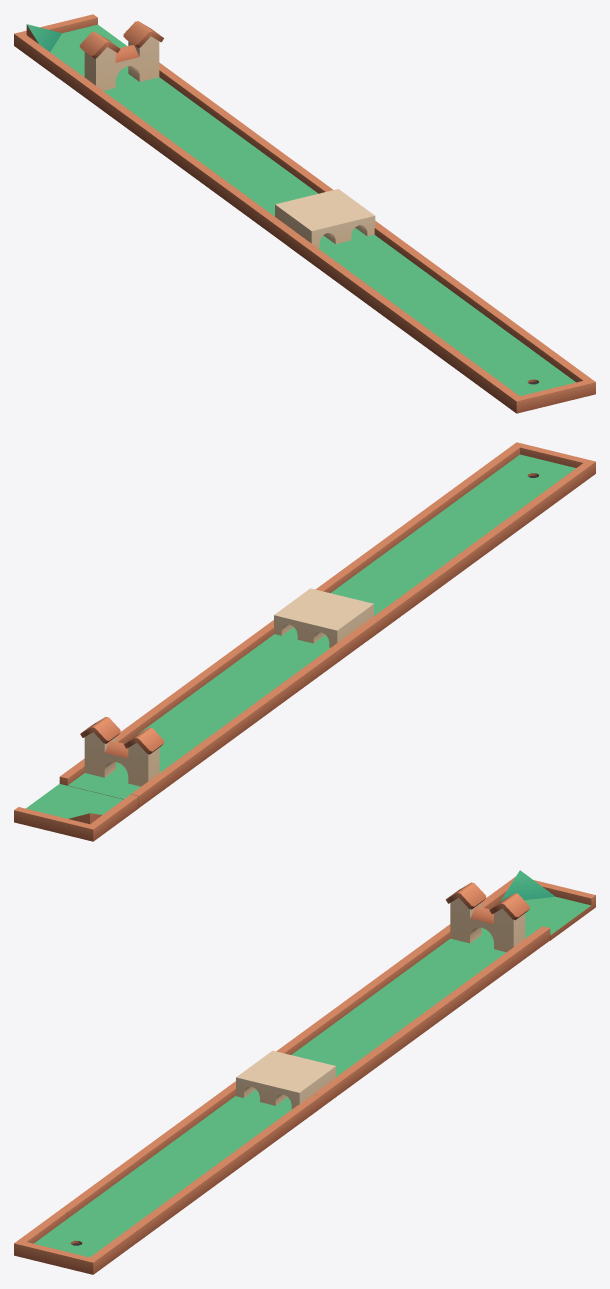
Rendered from mapa1.glb.
3 renders of one model, top to bottom at view 1: azimuth 30°, elevation 25°; view 2: azimuth 150°, elevation 25°; view 3: azimuth 330°, elevation 25°, orthographic.
Visible parts, largest first — view 1: hole-square; view 2: hole-square; view 3: hole-square.
Boxes of the visible parts, x1,y1,x2,y2 form: hole-square: [14, 14, 595, 413]; hole-square: [14, 442, 595, 841]; hole-square: [14, 870, 595, 1274].
Size of the model in its own units: 50.11 by 32.73 by 548.
Materials: 7 (7 with a texture image).
